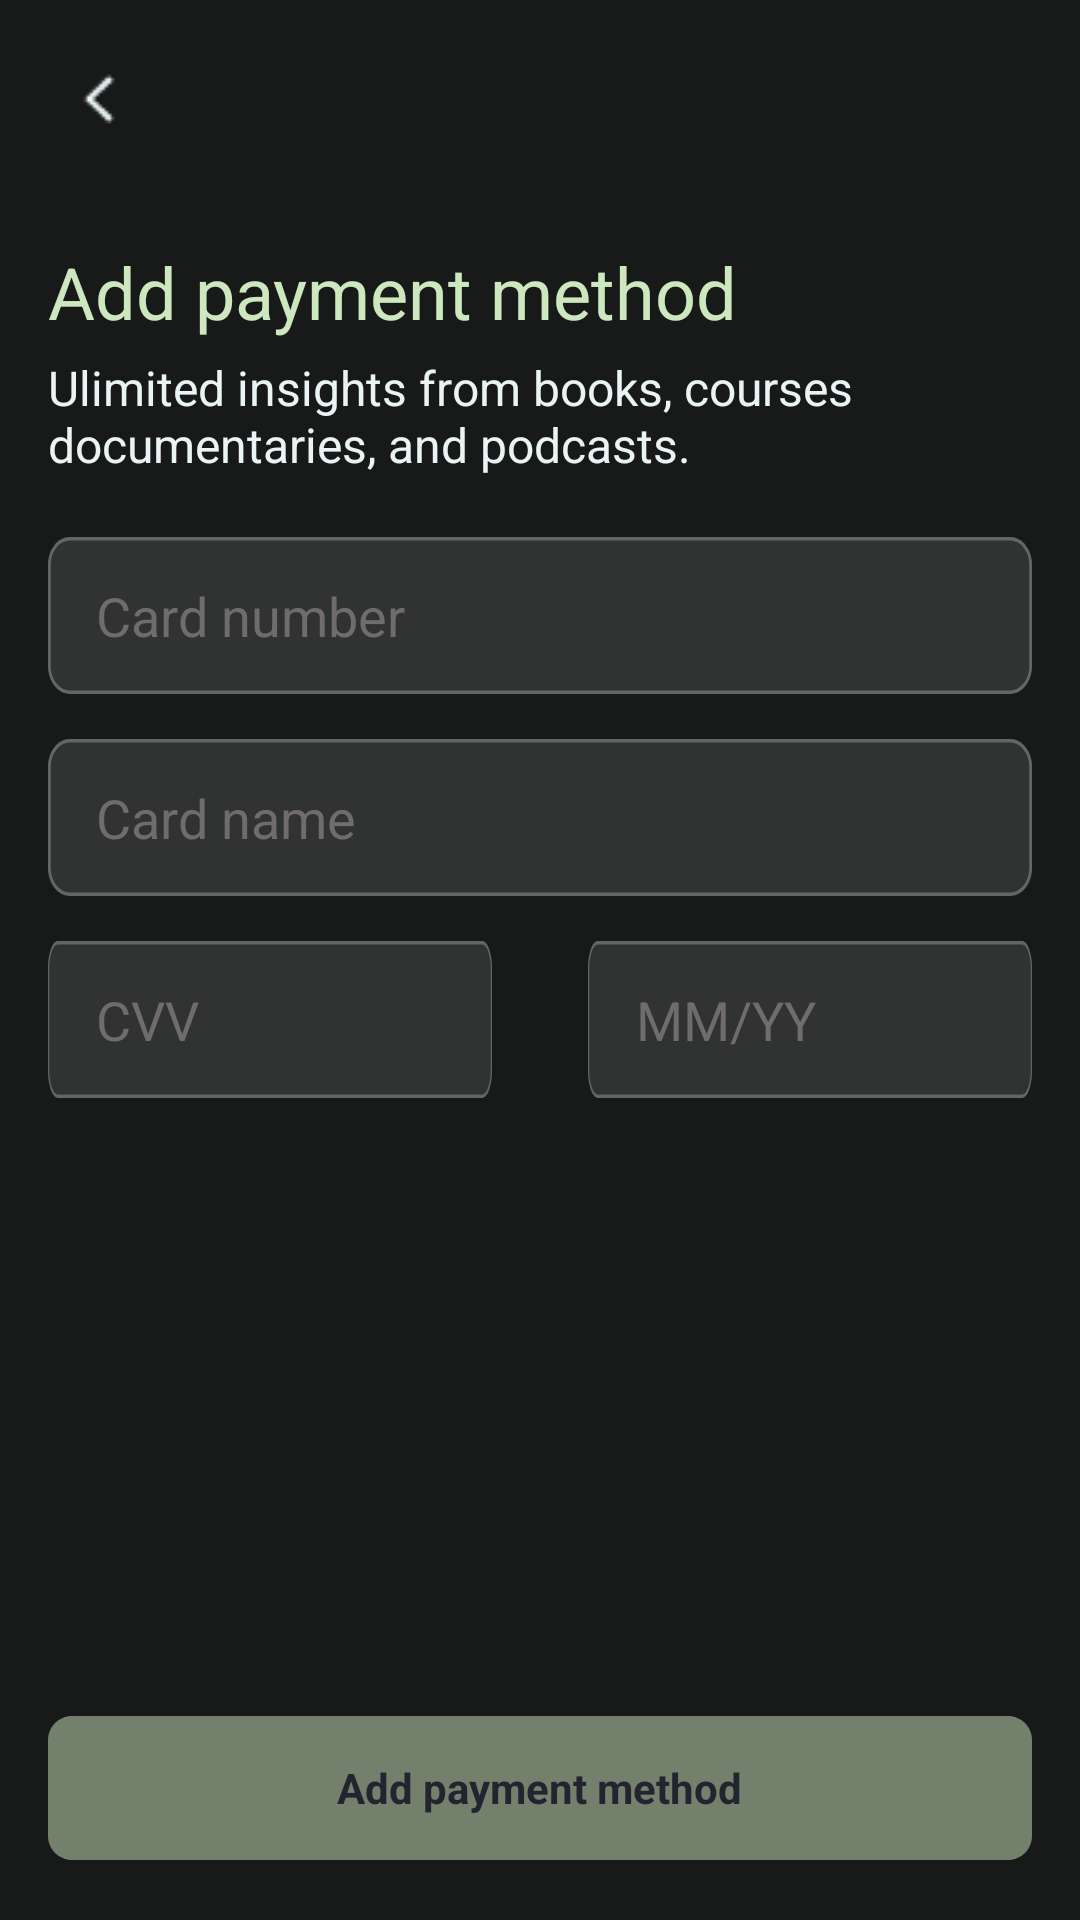

Locate icon controls on the screen. Image size 1080px×1920px, boxes as rect(x1, y1, x2, y2).
back: rect(84, 75, 115, 124)
